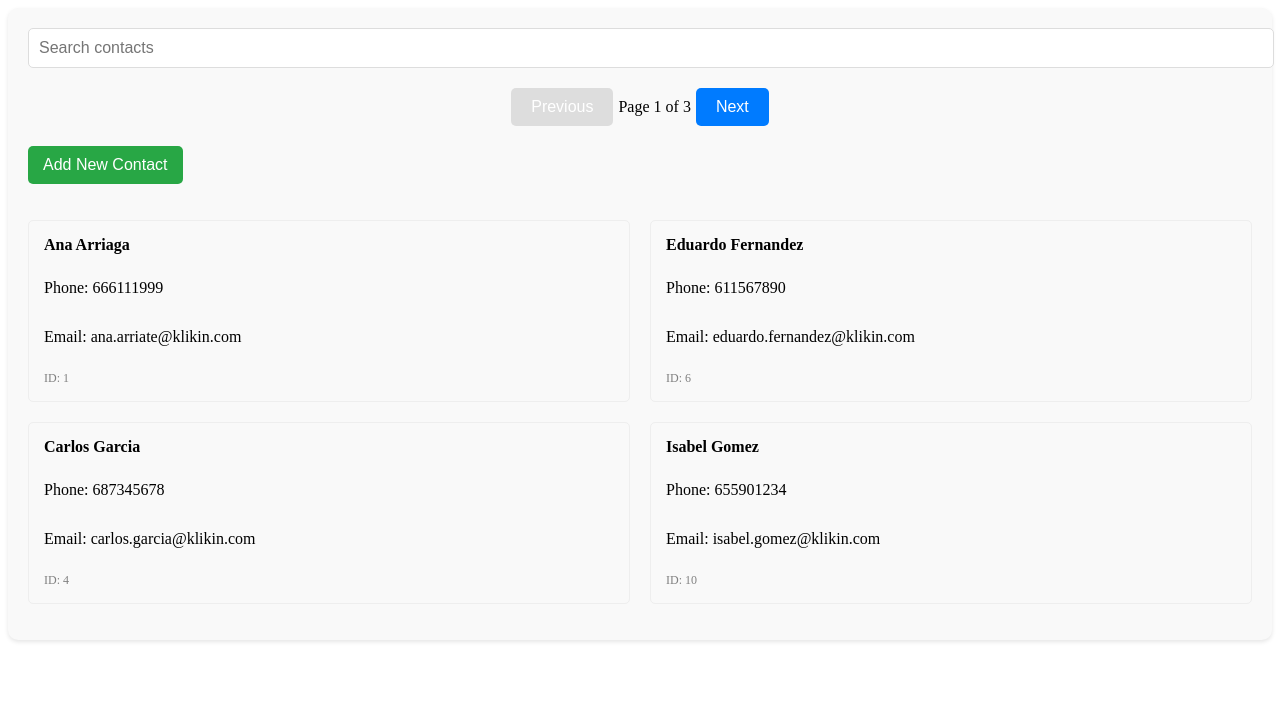
Scenario: Contact List › allows opening the add contact dialog
Click the button with class "contact-list__dialog-button" at coordinates (106, 165), box [28,146,183,184]
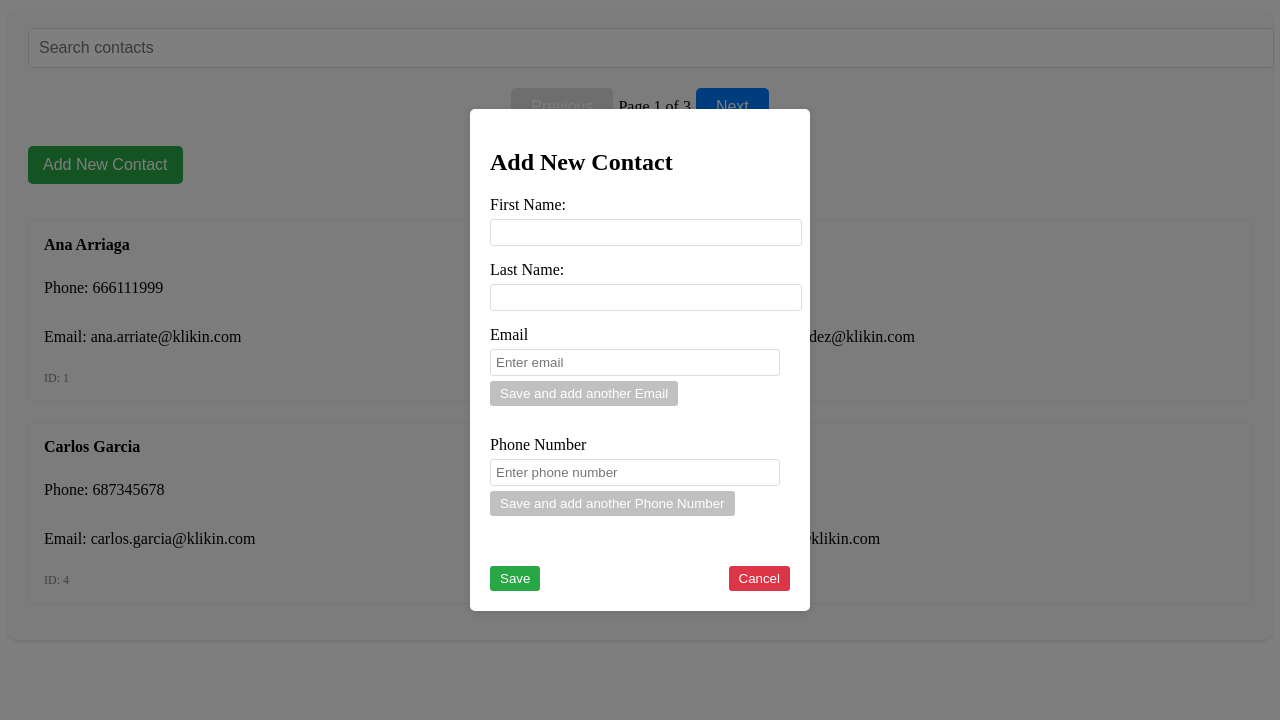
Expected: the element with class "contact-list__dialog" is shown, [470,109,810,611]
Expected: the heading with class "contact-list__dialog-title" reads "Add New Contact", [490,149,673,175]
